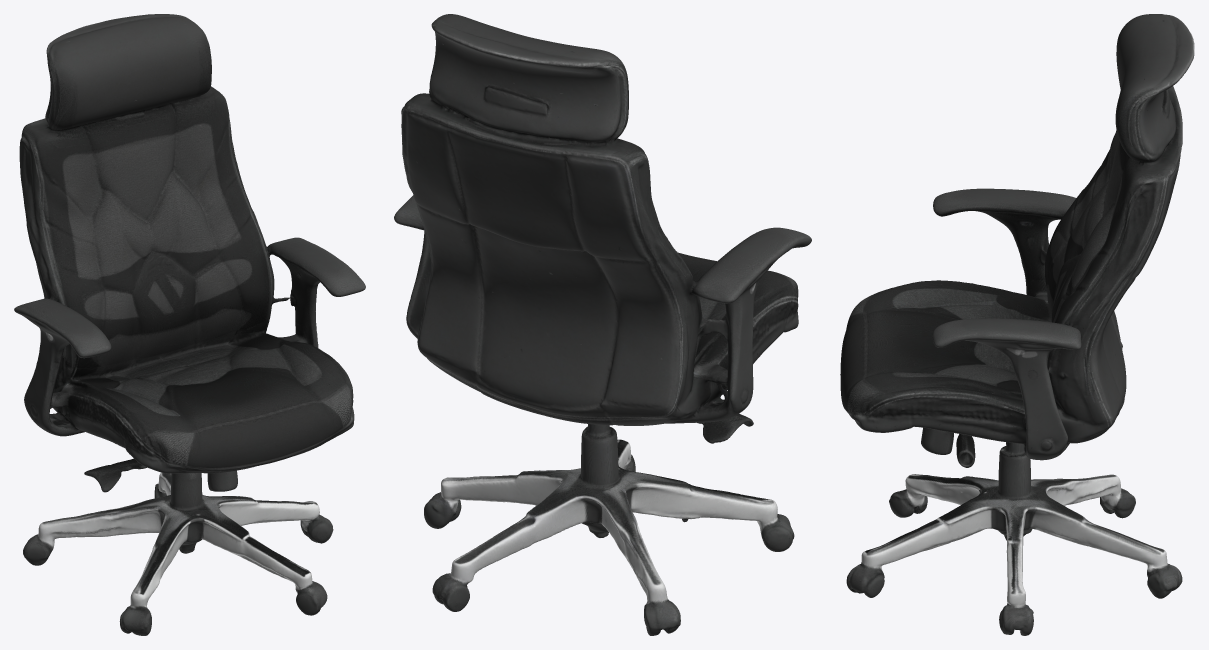
File: office-chair.glb
3 renders of one model, left to right at view 1: azimuth 30°, elevation 25°; view 2: azimuth 150°, elevation 25°; view 3: azimuth 270°, elevation 25°, orthographic. The views are drawn at different scales.
Bounding box in the file's own units: 1.22 × 2 × 1.23.
1 material, 1 textured.
